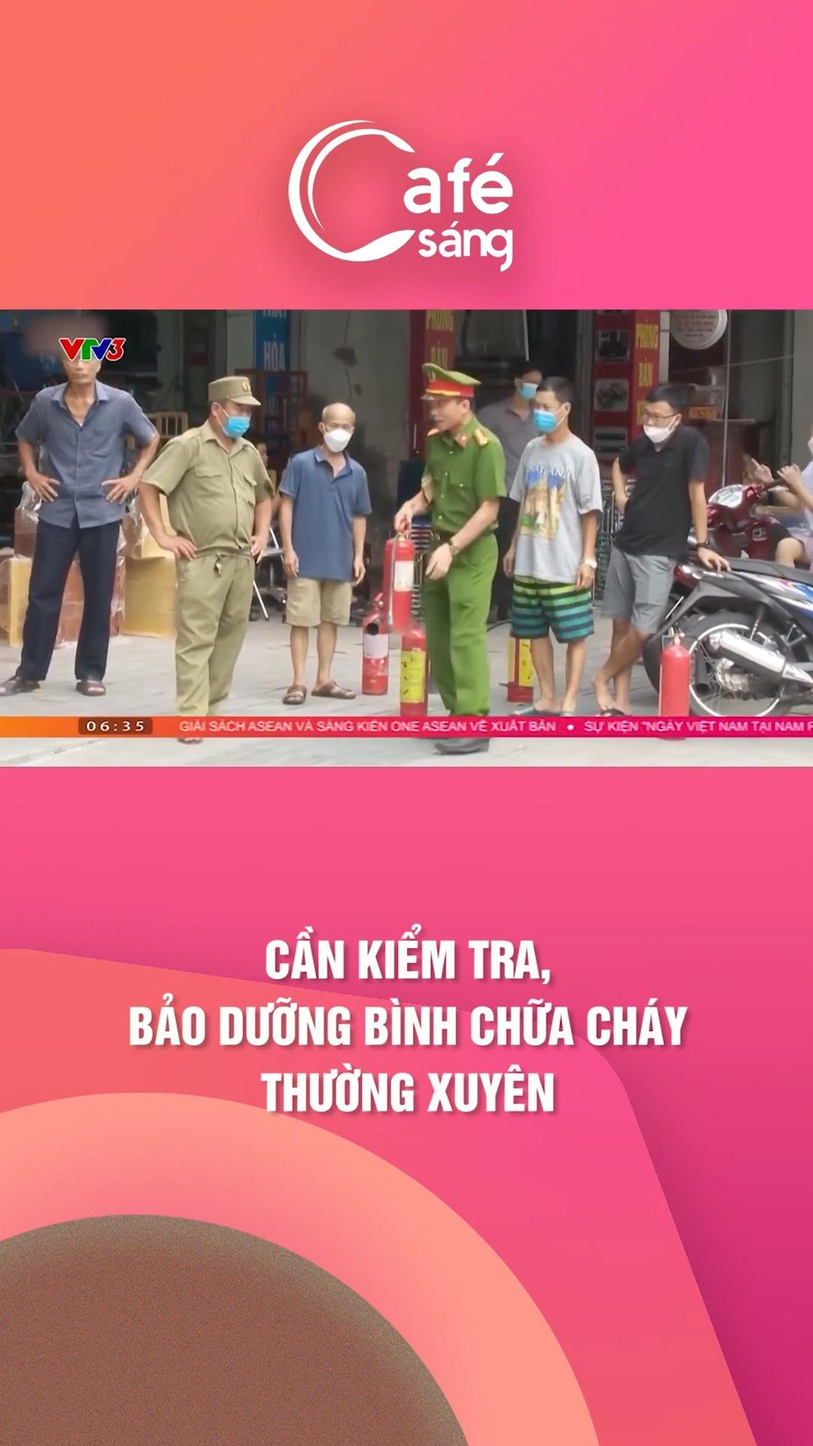FireExtinguisher: (385, 513, 431, 628), (494, 615, 542, 708), (347, 615, 399, 699), (659, 630, 691, 724)
